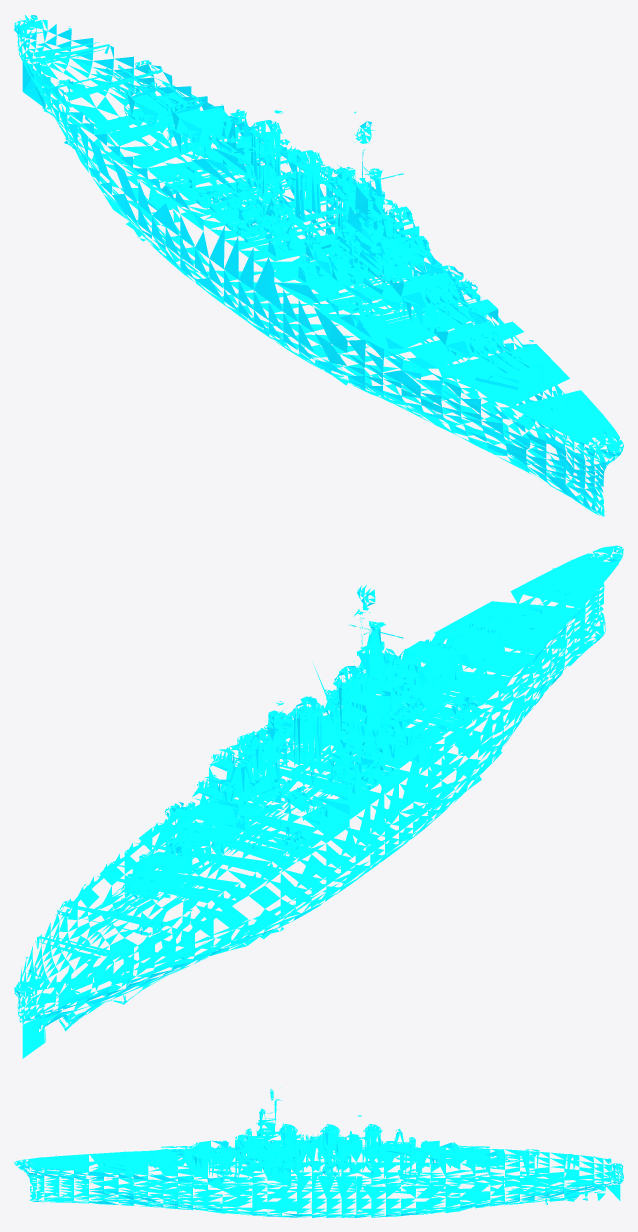
File: PASB990.glb
The picture shows the model from 3 angles, top to bottom: view 1: azimuth 30°, elevation 25°; view 2: azimuth 150°, elevation 25°; view 3: azimuth 270°, elevation 25°; orthographic projection. The views are drawn at different scales.
Visible parts, largest first — view 1: hull, turret; view 2: hull, turret; view 3: hull, turret.
Boxes of the visible parts, <box> form: hull: <box>14,15,623,516</box>; turret: <box>95,65,530,373</box>; hull: <box>14,545,623,1058</box>; turret: <box>95,607,530,915</box>; hull: <box>14,1088,623,1217</box>; turret: <box>116,1134,534,1177</box>.
Size of the model in its own units: 2.67 by 3.89 by 18.77.
